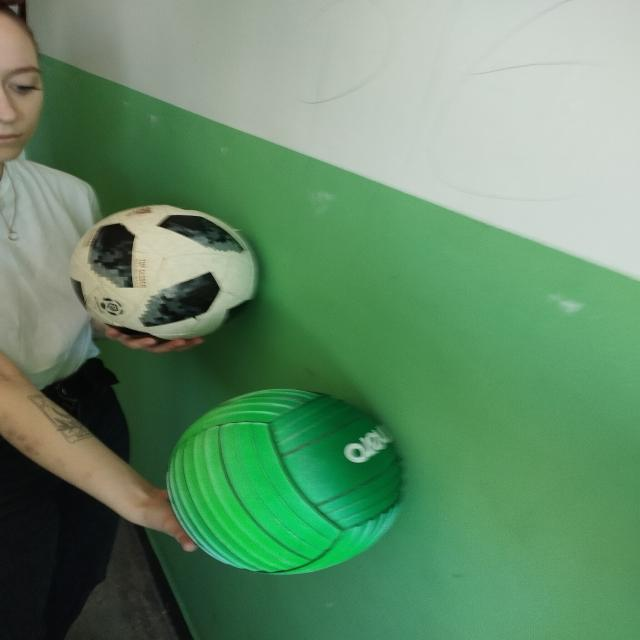nozna: (70, 204, 259, 343)
zielona: (165, 388, 405, 576)
